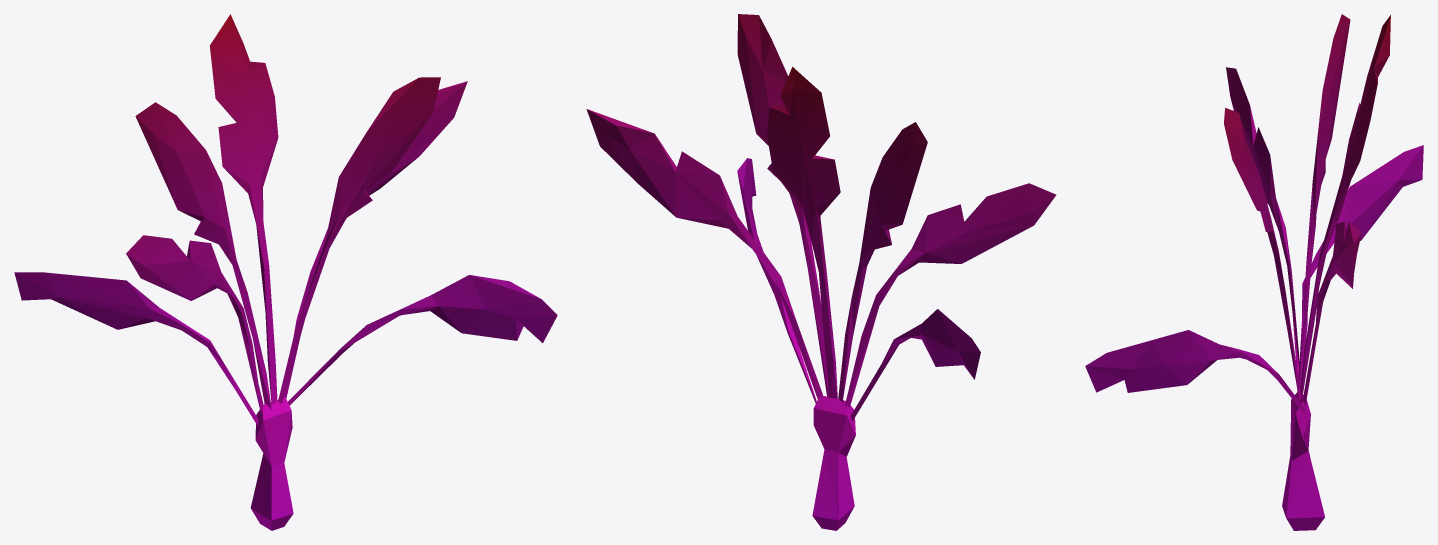
The model's file is SM_Plant_PalmBush_01.gltf.
3 views of the same model, side by side, from view 1: azimuth 30°, elevation 25°; view 2: azimuth 150°, elevation 25°; view 3: azimuth 270°, elevation 25° (orthographic). The views are drawn at different scales.
Parts seen in each view (by area): view 1: SM_Plant_PalmBush_01; view 2: SM_Plant_PalmBush_01; view 3: SM_Plant_PalmBush_01.
Boxes of the visible parts, <box> form: SM_Plant_PalmBush_01: <box>14,14,557,530</box>; SM_Plant_PalmBush_01: <box>586,14,1056,530</box>; SM_Plant_PalmBush_01: <box>1085,14,1423,530</box>.
Size of the model in its own units: 3.48 by 3.81 by 2.28.
